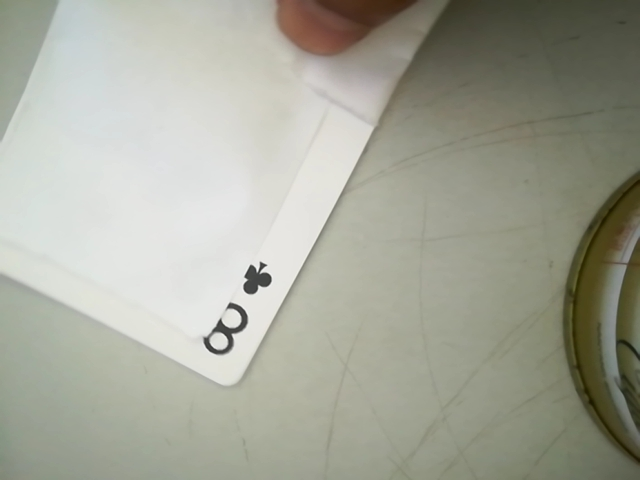mh 8: (204, 251, 277, 366)
